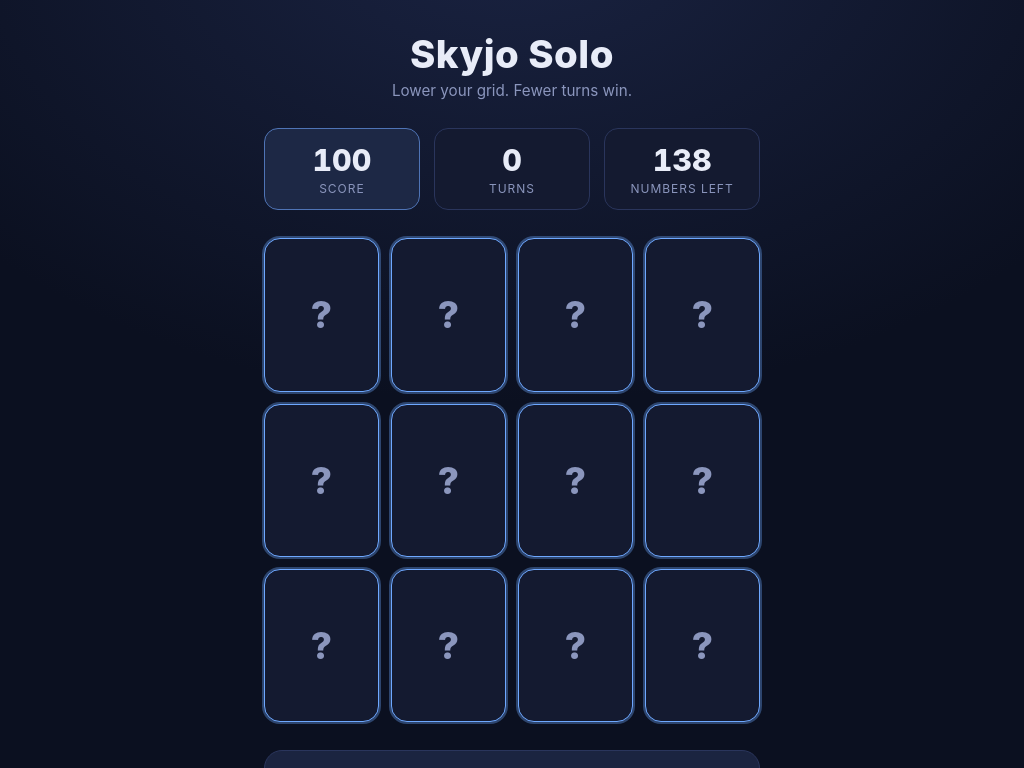
Test: <App> › requires two opening reveals, then auto-draws into the action choice
The width and height of the screenshot is (1024, 768).
Step 1. Click the 1st button "?" → (322, 315), box [264,238,379,392]
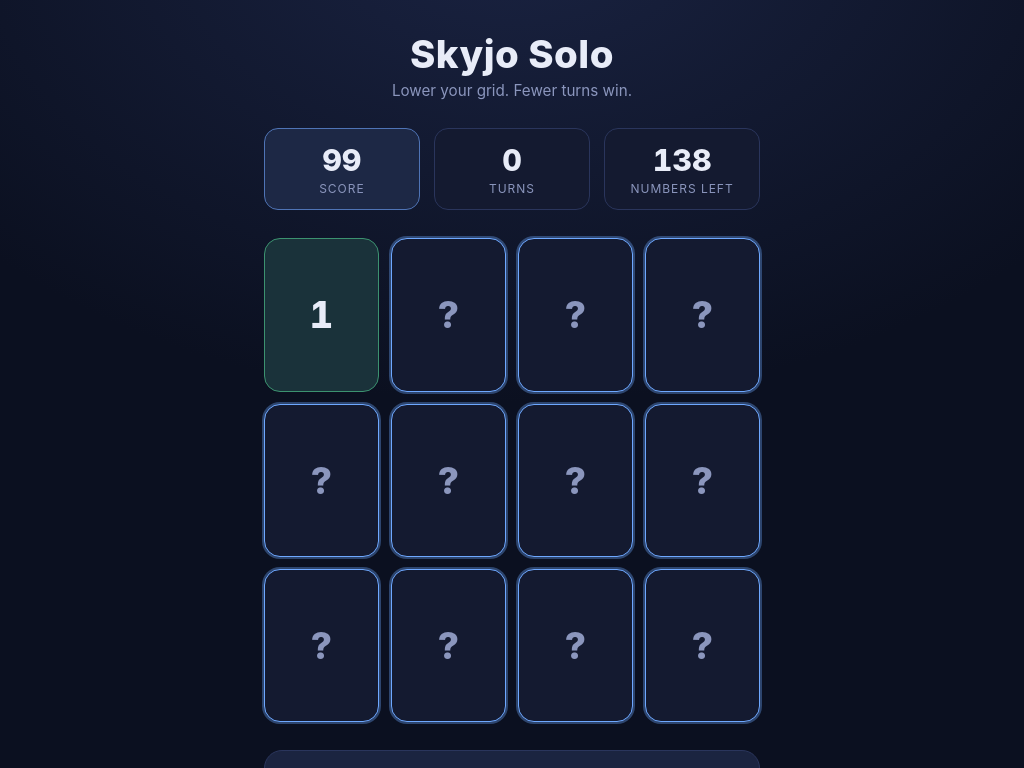
Step 2. Click the 1st button "?" → (448, 315), box [391,238,506,392]
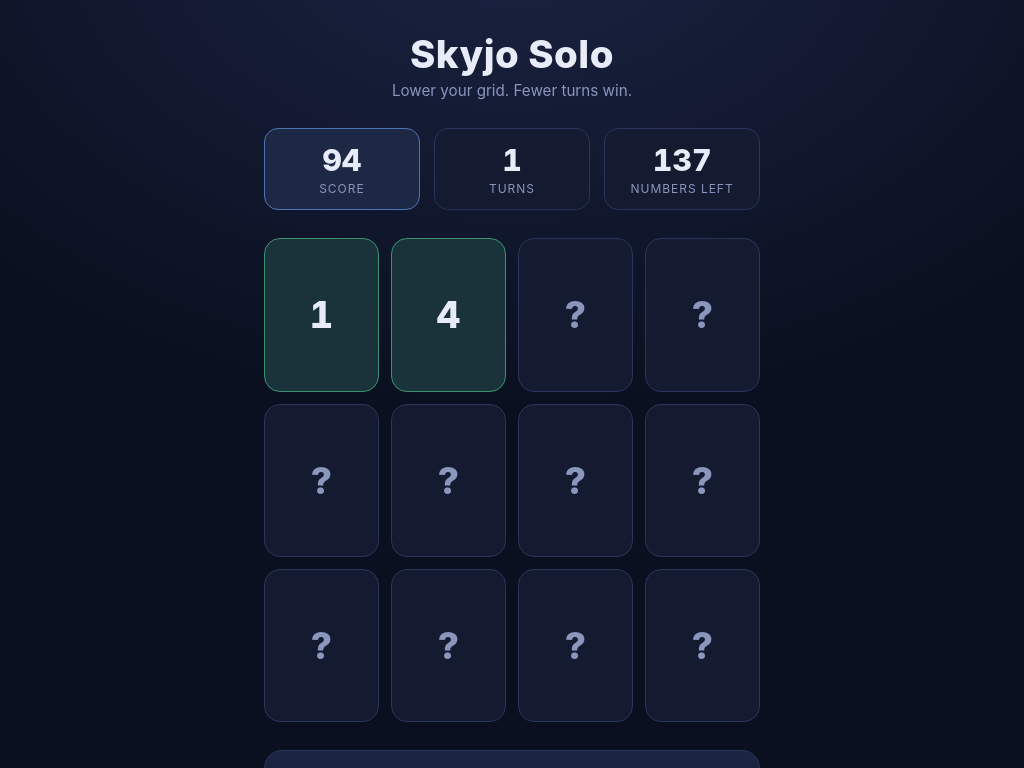
Result: the text "1" next to "137" is shown at [502,142,522,178]
